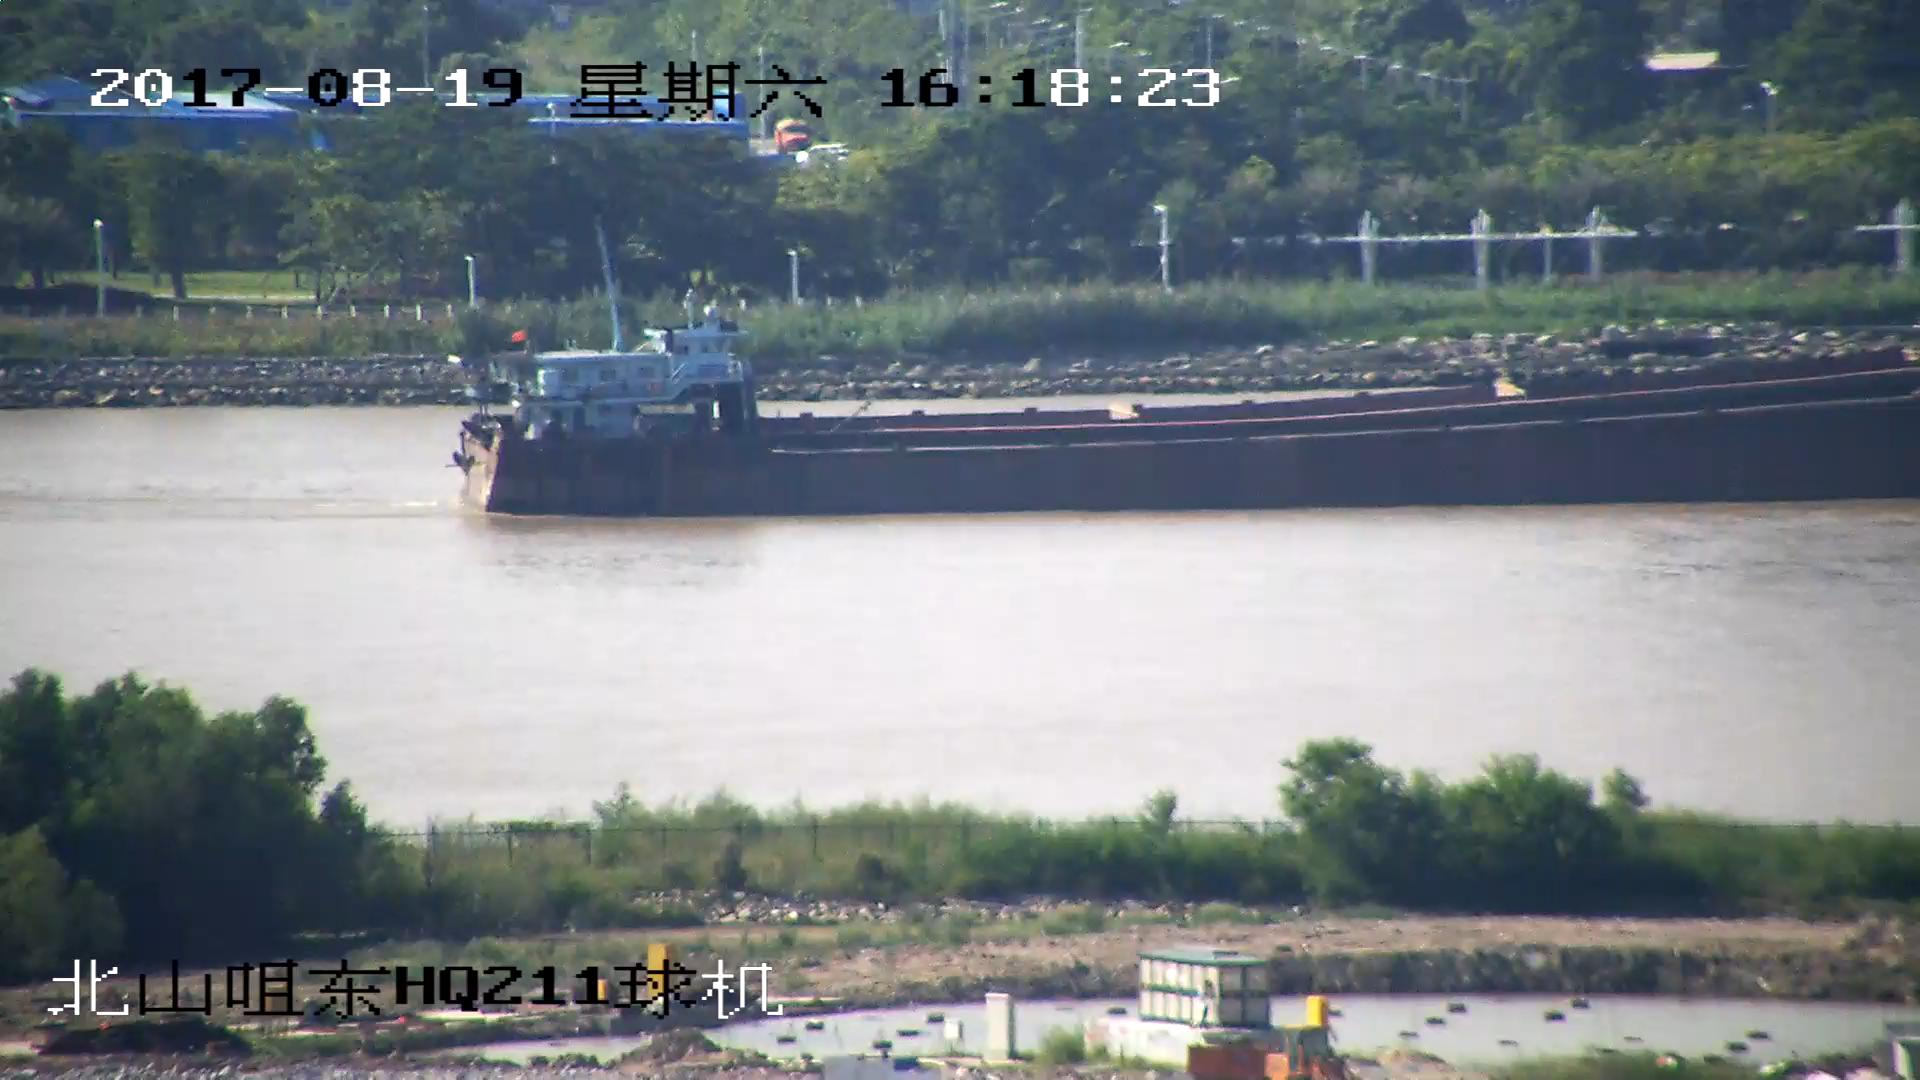bulk cargo carrier: (456, 314, 1920, 518)
